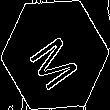M_NE: (25, 22, 85, 88)
